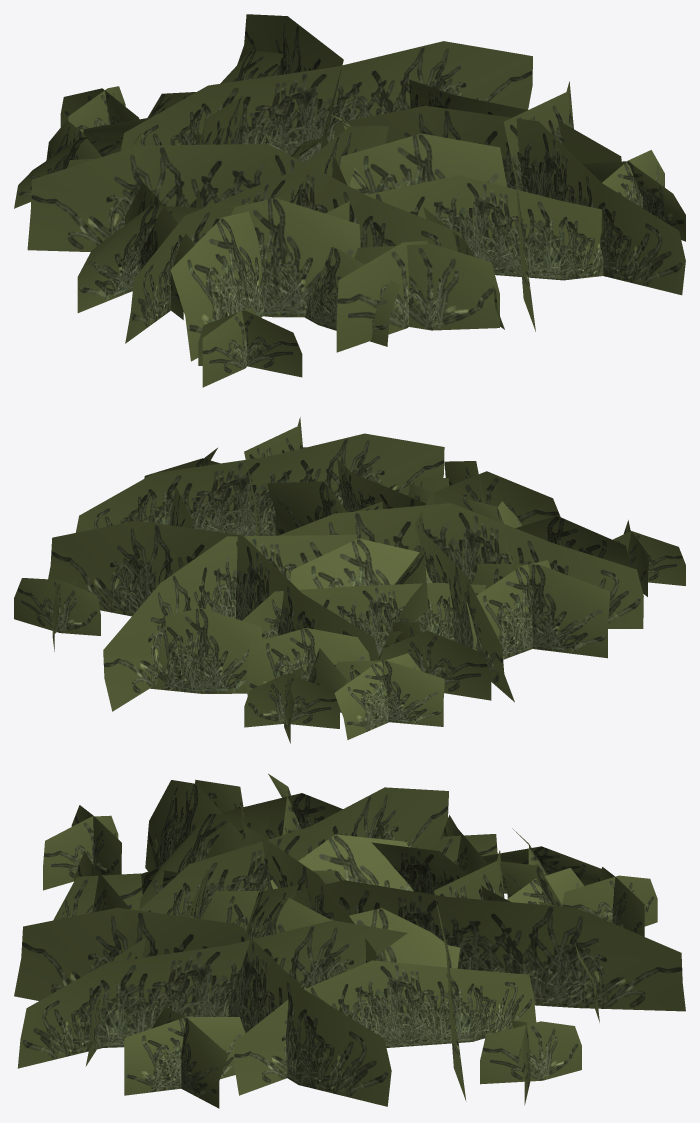
Rendered from SM_Grass_big_clump_B1.fbx.
3 views of the same model, one above another, from view 1: azimuth 30°, elevation 25°; view 2: azimuth 150°, elevation 25°; view 3: azimuth 270°, elevation 25° (orthographic). The views are drawn at different scales.
Parts seen in each view (by area): view 1: SM_Grass_big_clump_B1; view 2: SM_Grass_big_clump_B1; view 3: SM_Grass_big_clump_B1.
Part boxes in pixels (bbox=[...]): SM_Grass_big_clump_B1: bbox=[14, 14, 685, 387]; SM_Grass_big_clump_B1: bbox=[14, 417, 685, 743]; SM_Grass_big_clump_B1: bbox=[14, 773, 685, 1108].
Bounding box in the file's own units: 133 × 27.38 × 139.
